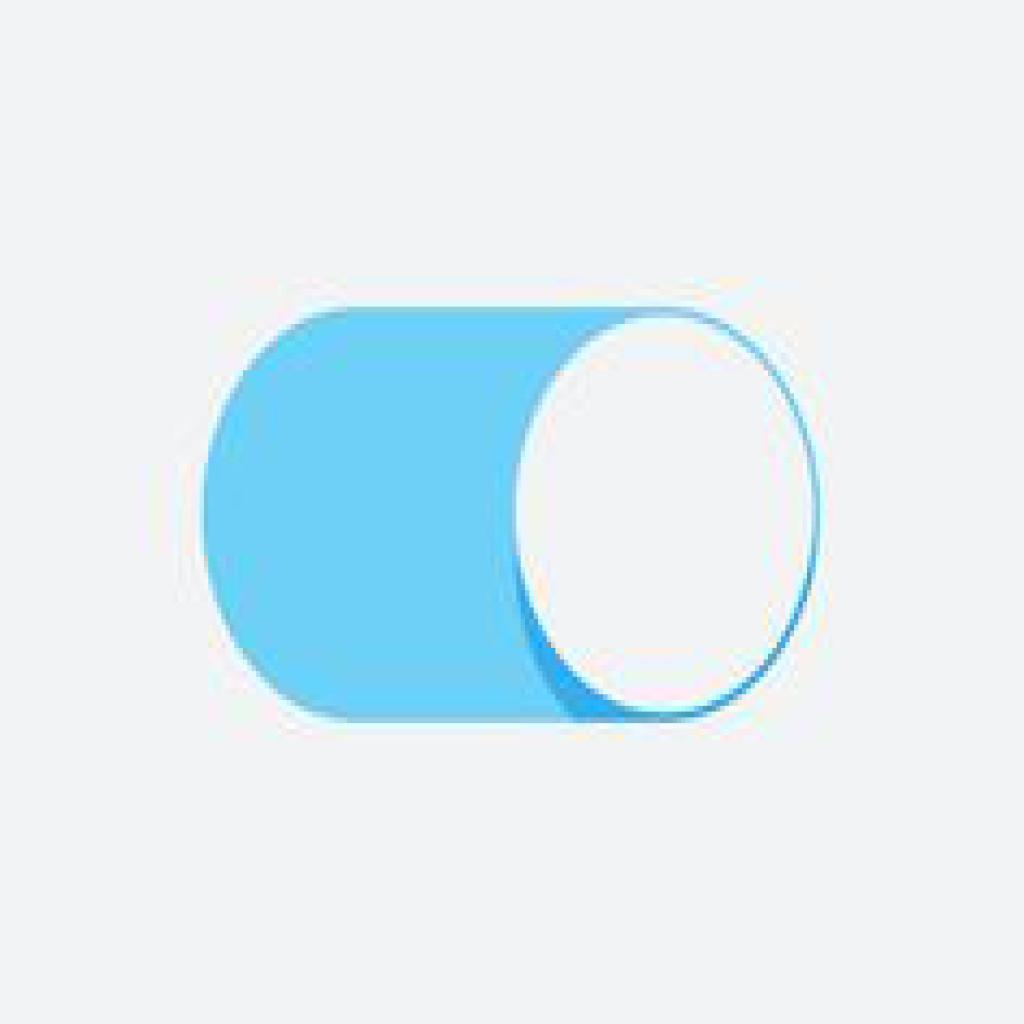switch: (200, 309, 826, 724)
